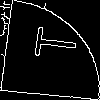T: (24, 25, 78, 61)
